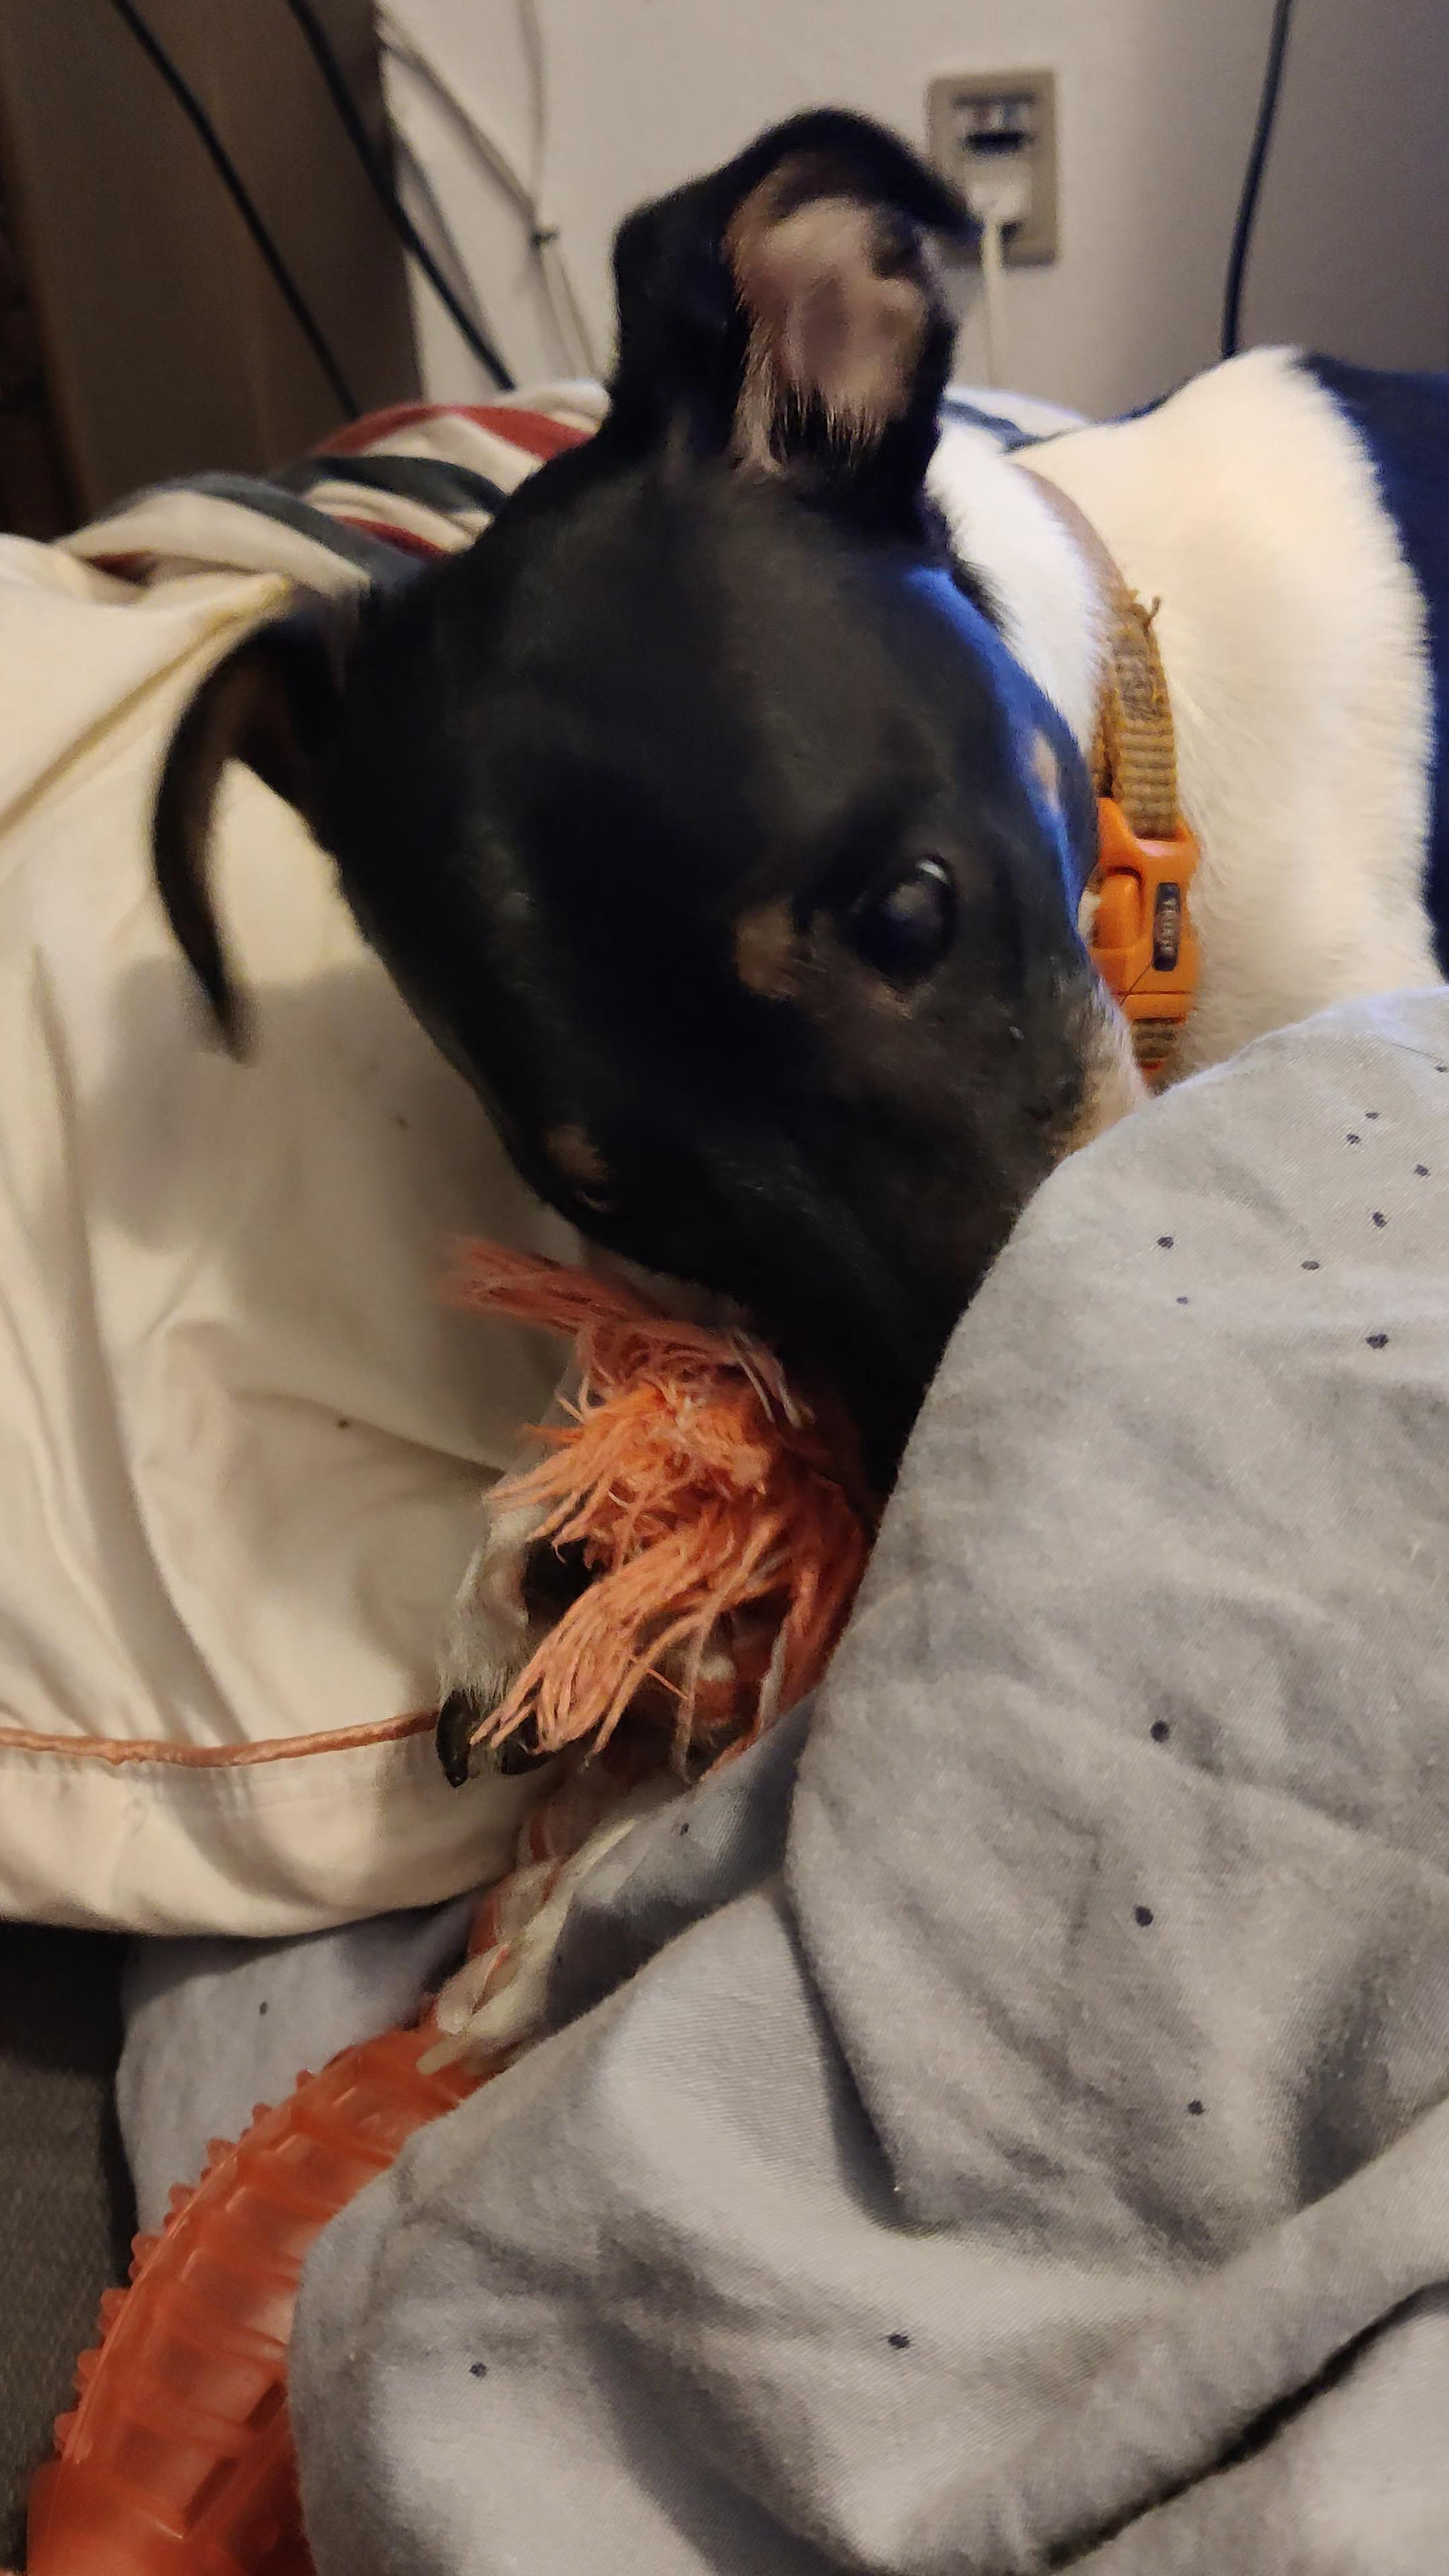Dog: (133, 87, 1449, 2091)
